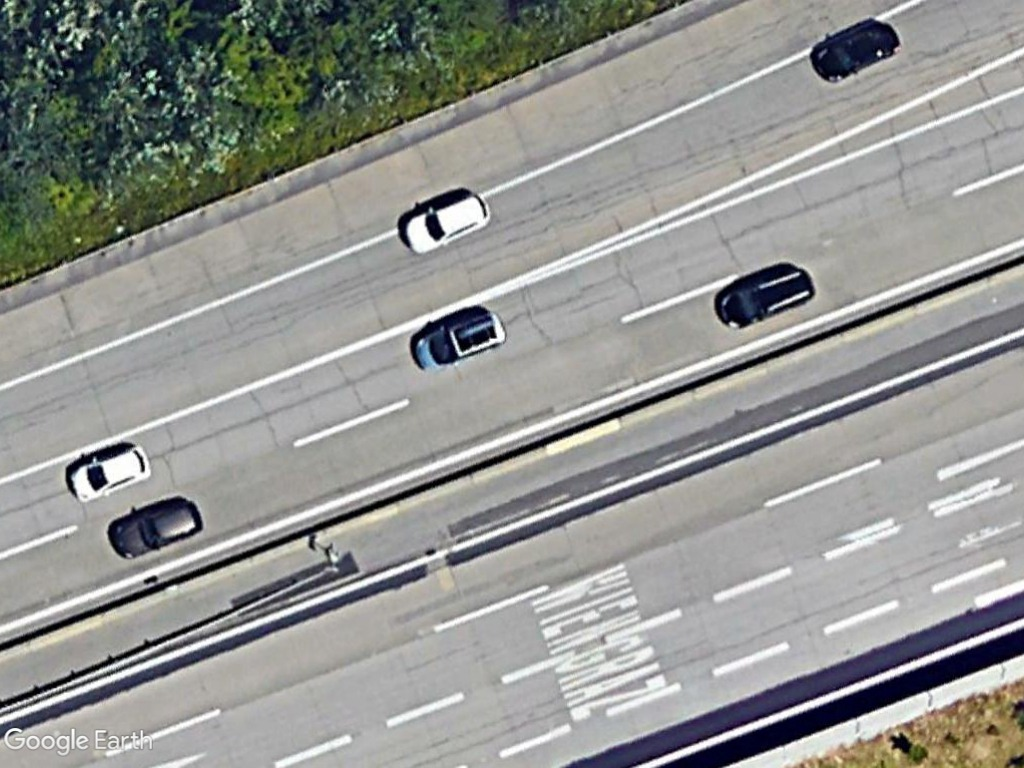car: (712, 264, 820, 332), (106, 493, 208, 563), (407, 305, 511, 373), (398, 185, 495, 256), (61, 435, 153, 506), (807, 17, 904, 84)
